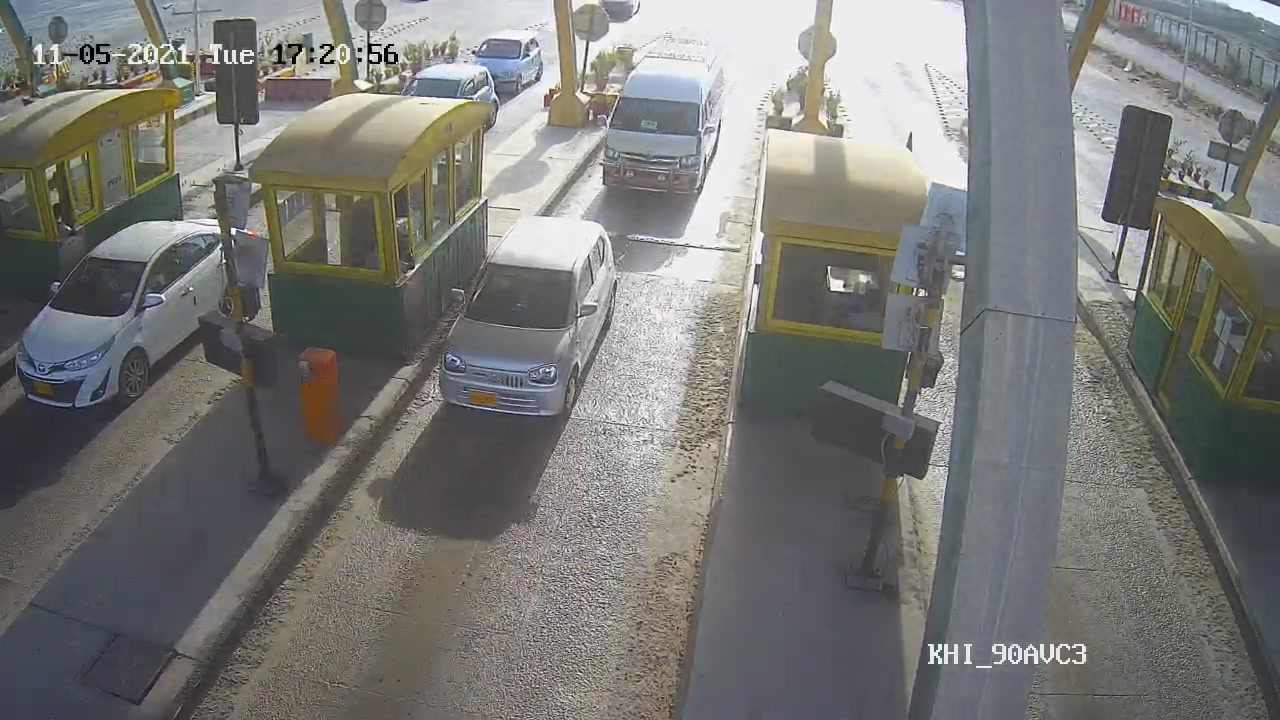F1: (430, 209, 619, 438)
F2: (592, 27, 732, 200)
